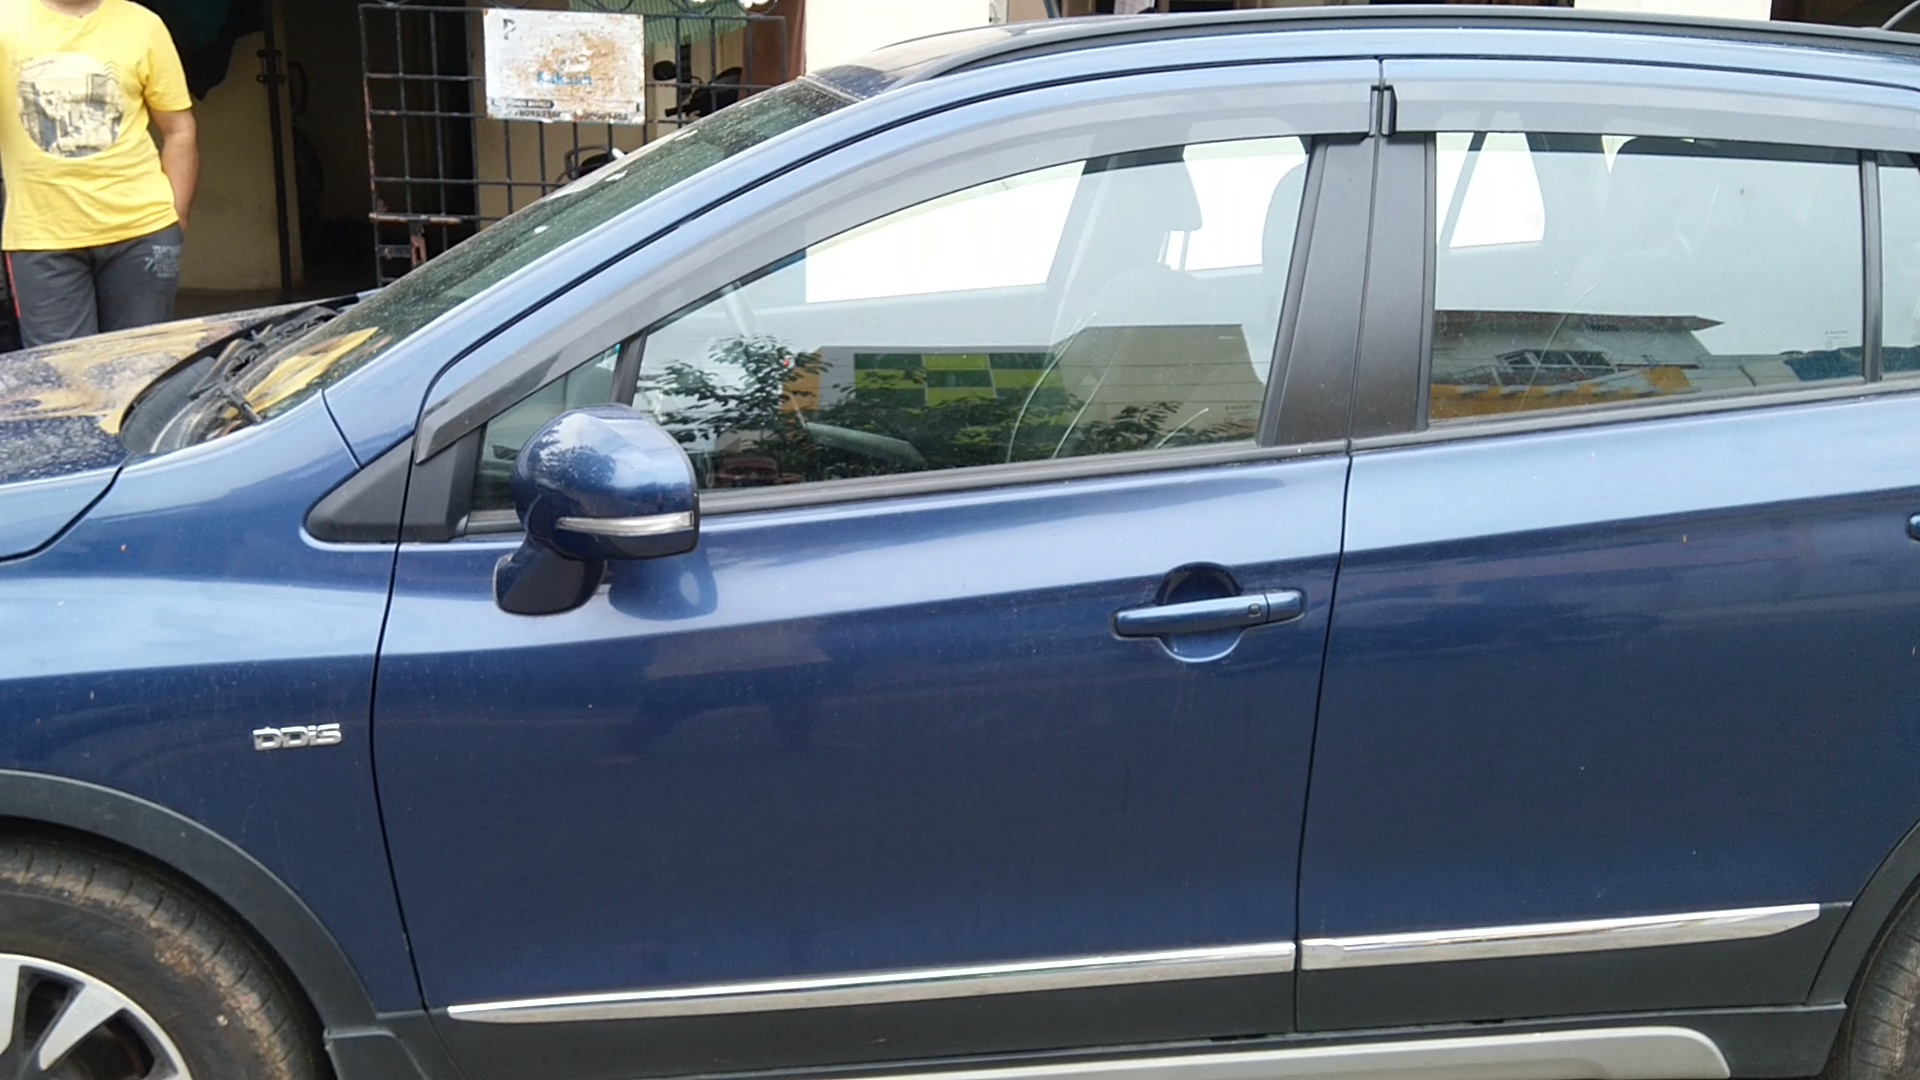ovr_mirror: (488, 393, 711, 622)
